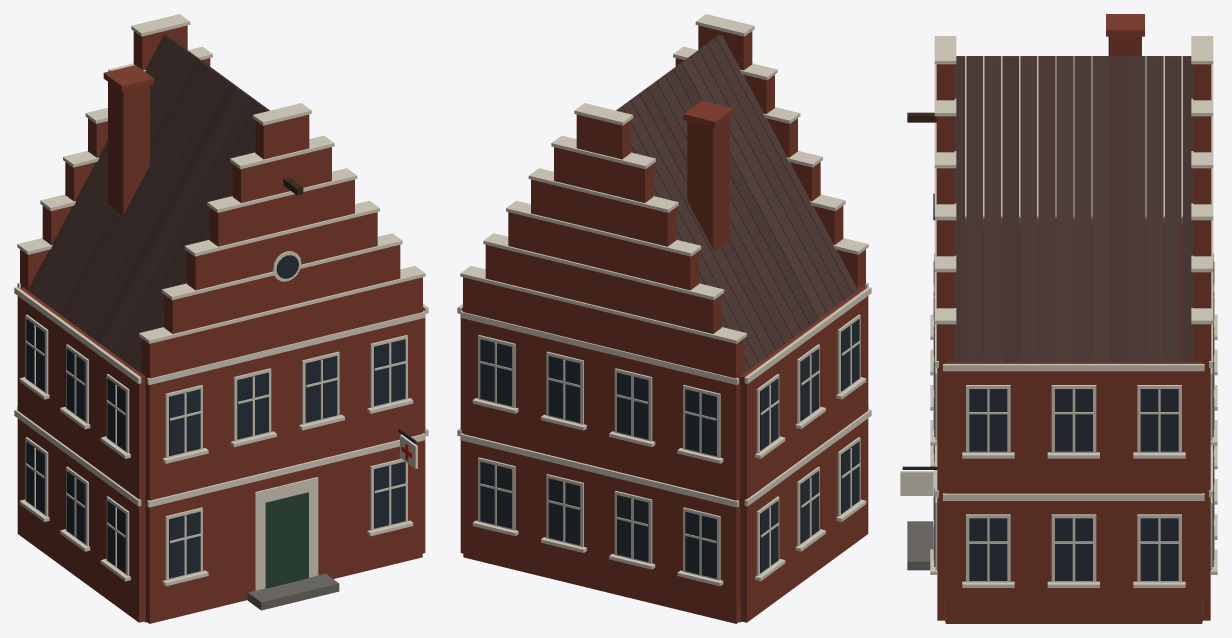
File: hospital_3.glb
The picture shows the model from 3 angles, left to right: view 1: azimuth 30°, elevation 25°; view 2: azimuth 150°, elevation 25°; view 3: azimuth 270°, elevation 25°; orthographic projection. The views are drawn at different scales.
Visible parts, largest first — view 1: hospital3_brick, hospital3_tiles, hospital3_stone, hospital3_glass, hospital3_wood; view 2: hospital3_brick, hospital3_tiles, hospital3_glass, hospital3_stone, hospital3_wood; view 3: hospital3_tiles, hospital3_brick, hospital3_stone, hospital3_glass, hospital3_wood.
Boxes of the visible parts, box(x1,y1,x2,y2) form: hospital3_brick: box(17, 25, 425, 623); hospital3_tiles: box(24, 34, 269, 375); hospital3_stone: box(14, 14, 428, 622); hospital3_glass: box(26, 255, 405, 578); hospital3_wood: box(25, 177, 417, 588); hospital3_brick: box(460, 25, 868, 623); hospital3_tiles: box(616, 34, 861, 375); hospital3_glass: box(480, 319, 859, 578); hospital3_stone: box(457, 14, 871, 622); hospital3_wood: box(478, 314, 860, 580); hospital3_tiles: box(948, 56, 1199, 362); hospital3_brick: box(936, 14, 1211, 623); hospital3_stone: box(907, 36, 1217, 621); hospital3_glass: box(933, 193, 1213, 580); hospital3_wood: box(900, 112, 1214, 582).
Size of the model in its own units: 7.64 by 11.67 by 6.67.
